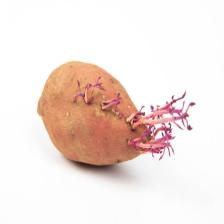Sprouted potato: (39, 51, 190, 176)
